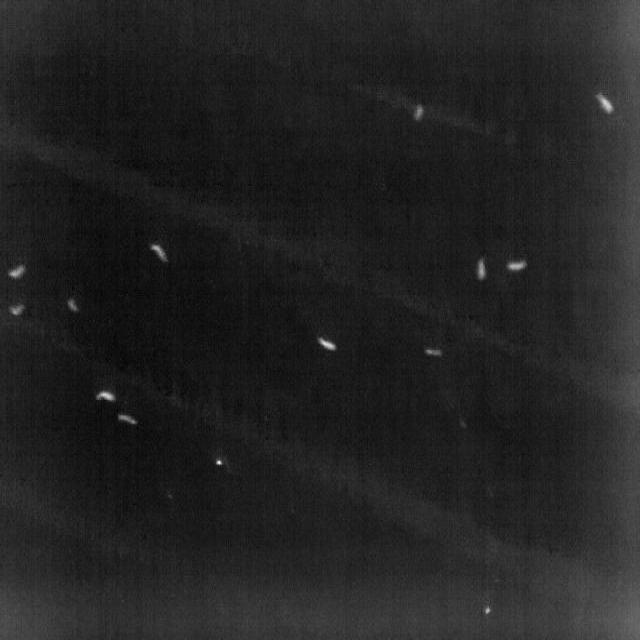deer: (594, 92, 615, 115), (151, 243, 169, 263), (505, 259, 529, 272), (475, 258, 487, 282), (118, 412, 138, 426), (317, 337, 337, 351), (9, 264, 26, 279), (8, 303, 26, 317), (95, 390, 116, 402), (412, 104, 424, 122), (66, 298, 80, 313), (424, 347, 442, 358)
